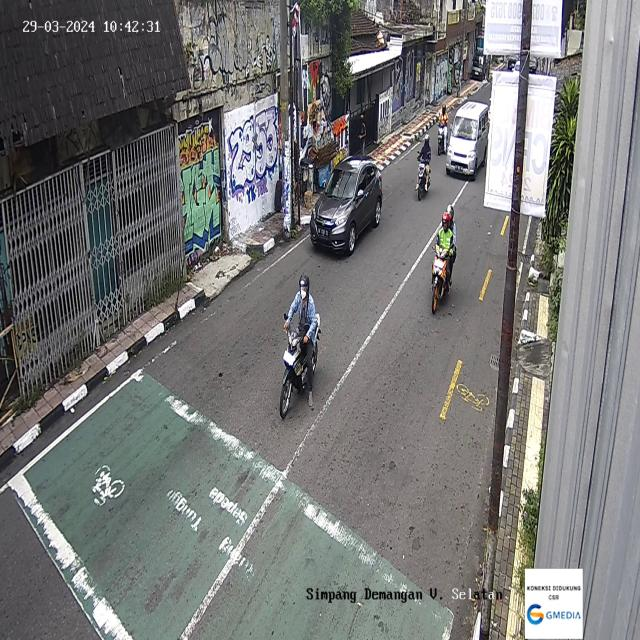car: (310, 155, 382, 256), (446, 99, 488, 182)
motorcycle: (279, 272, 321, 420), (430, 202, 458, 314), (416, 133, 431, 201), (437, 104, 449, 156)
